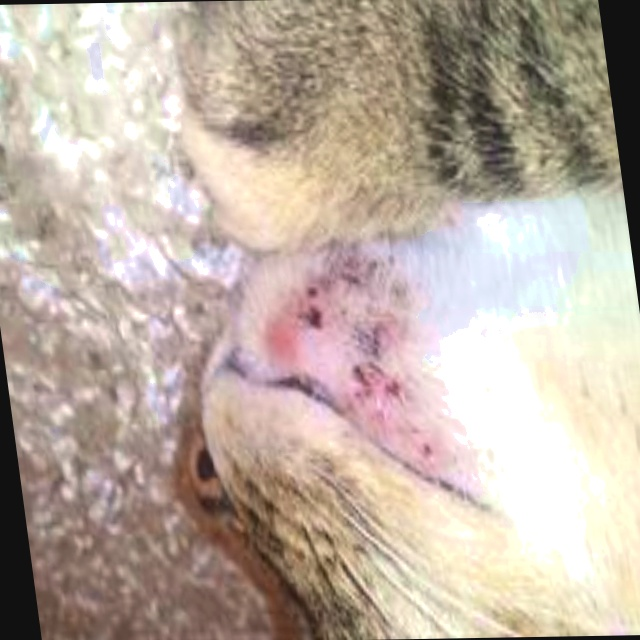acne: (286, 247, 450, 474)
